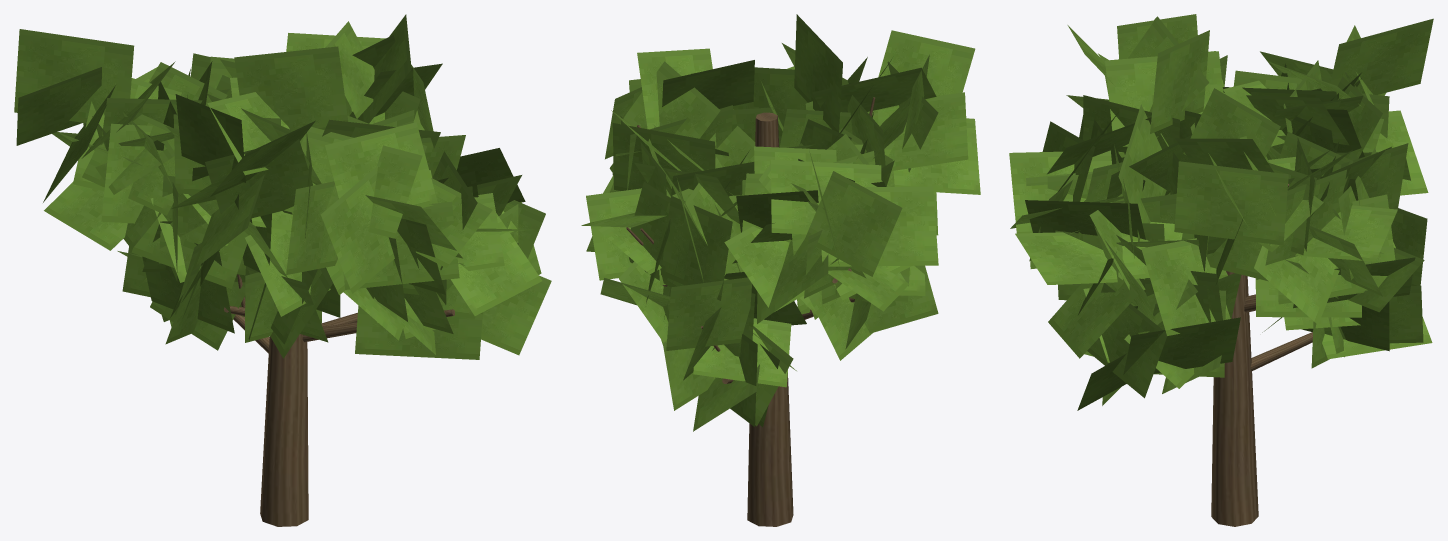
3 views of the same model, side by side, from view 1: azimuth 30°, elevation 25°; view 2: azimuth 150°, elevation 25°; view 3: azimuth 270°, elevation 25° (orthographic). The views are drawn at different scales.
Parts seen in each view (by area): view 1: oak-leaf, oak-bark; view 2: oak-leaf, oak-bark; view 3: oak-leaf, oak-bark.
Part boxes in pixels (left/top/right/bottom): oak-leaf: left=14, top=14, right=551, bottom=359; oak-bark: left=224, top=274, right=454, bottom=526; oak-leaf: left=581, top=14, right=980, bottom=431; oak-bark: left=626, top=97, right=875, bottom=526; oak-leaf: left=1009, top=14, right=1433, bottom=410; oak-bark: left=1211, top=184, right=1312, bottom=526.
Size of the model in its own units: 8.08 by 9.17 by 7.51.
Materials: 2 (2 with a texture image).
